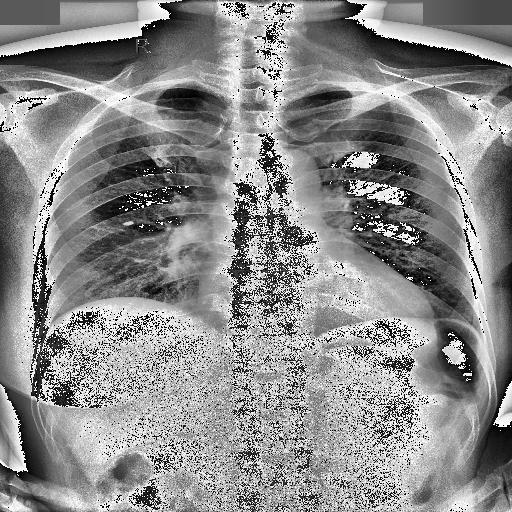3- Cardiomegaly: (193, 274, 439, 332), (192, 280, 434, 330)
8- Nodule-Mass: (122, 220, 135, 226), (123, 221, 133, 226)
